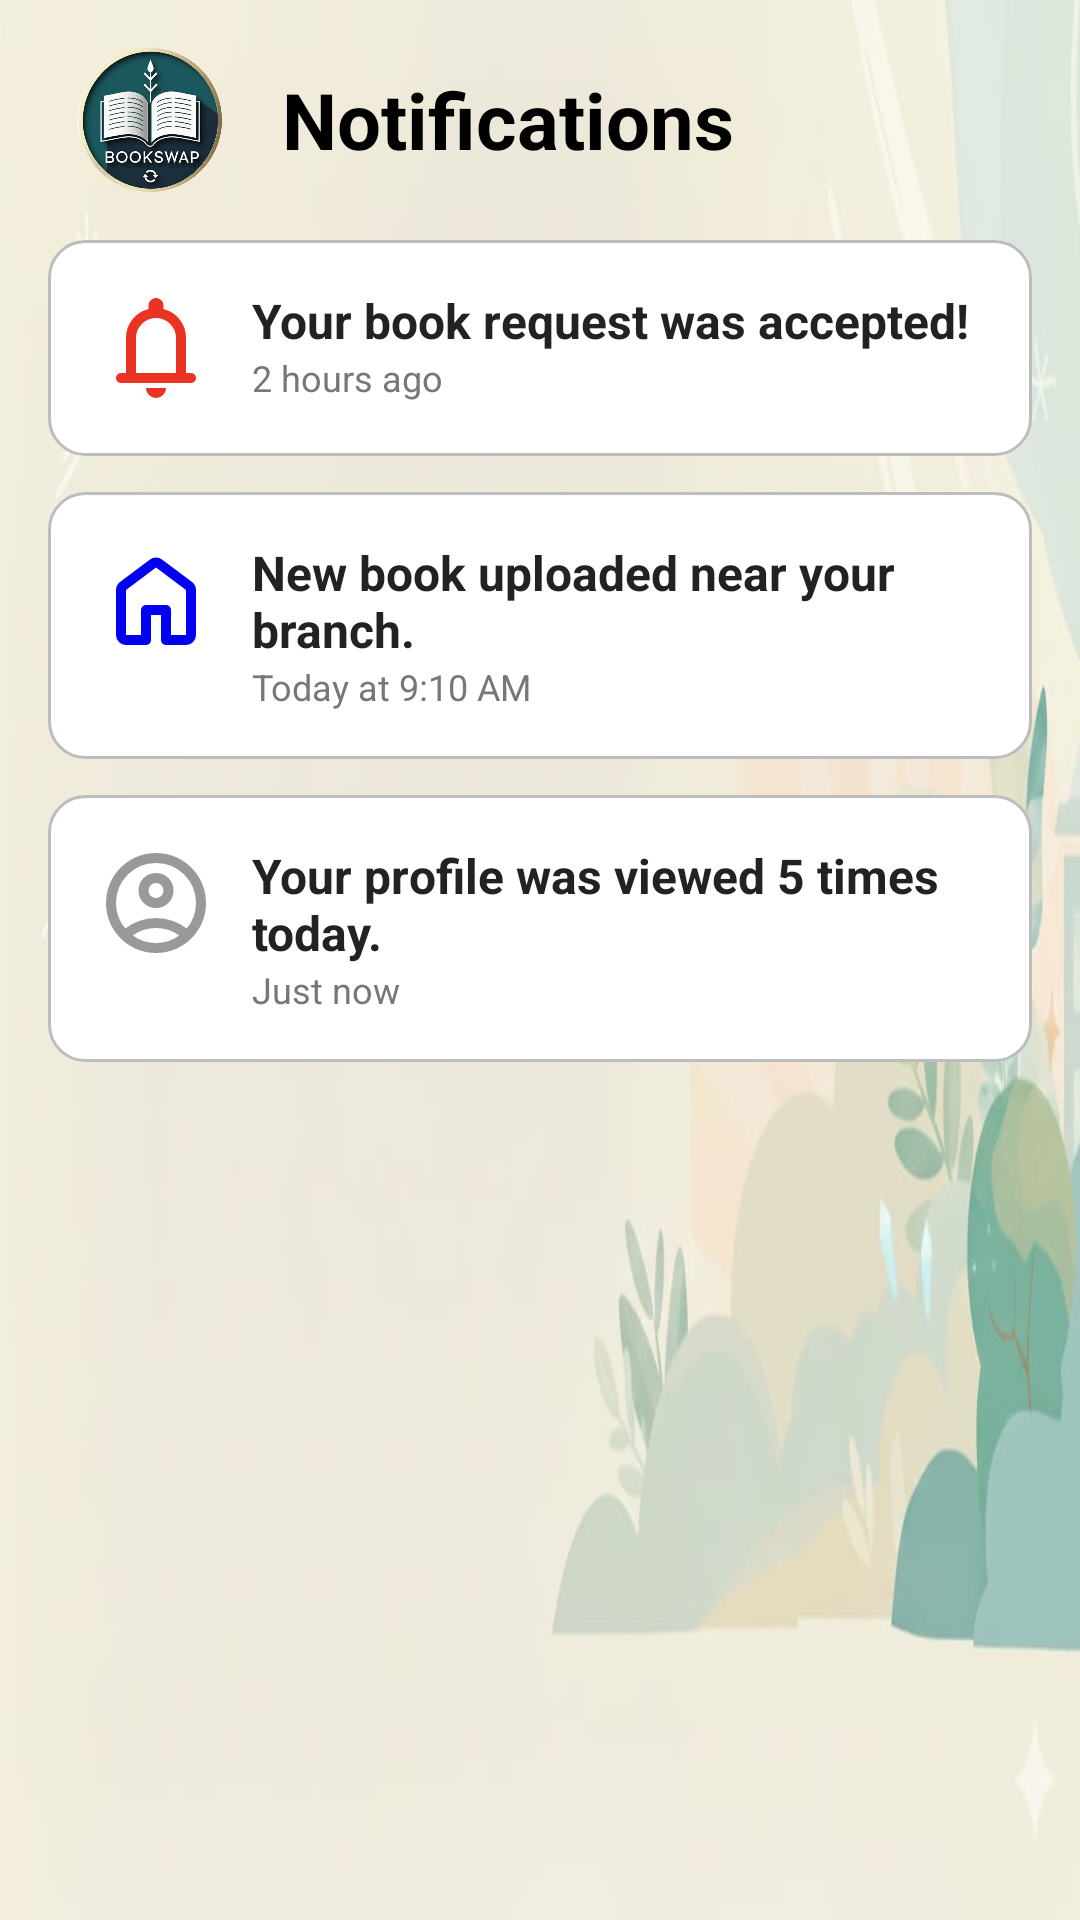

Screen size 1080px x 1920px. Icon name, then its center in pixels as (x=x, y=y):
home: (x=156, y=601)
